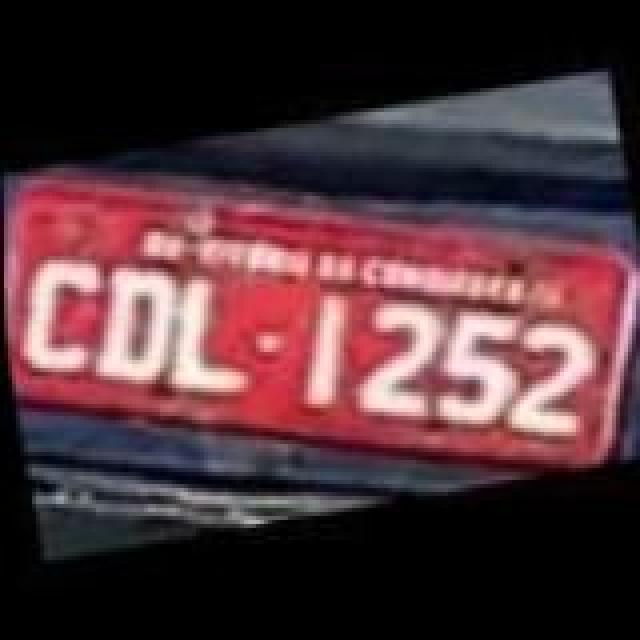1: (282, 284, 362, 412)
2: (342, 286, 454, 430), (492, 318, 608, 454)
5: (412, 302, 528, 434)
C: (6, 246, 114, 382)
D: (76, 254, 188, 394)
L: (150, 270, 258, 406)
